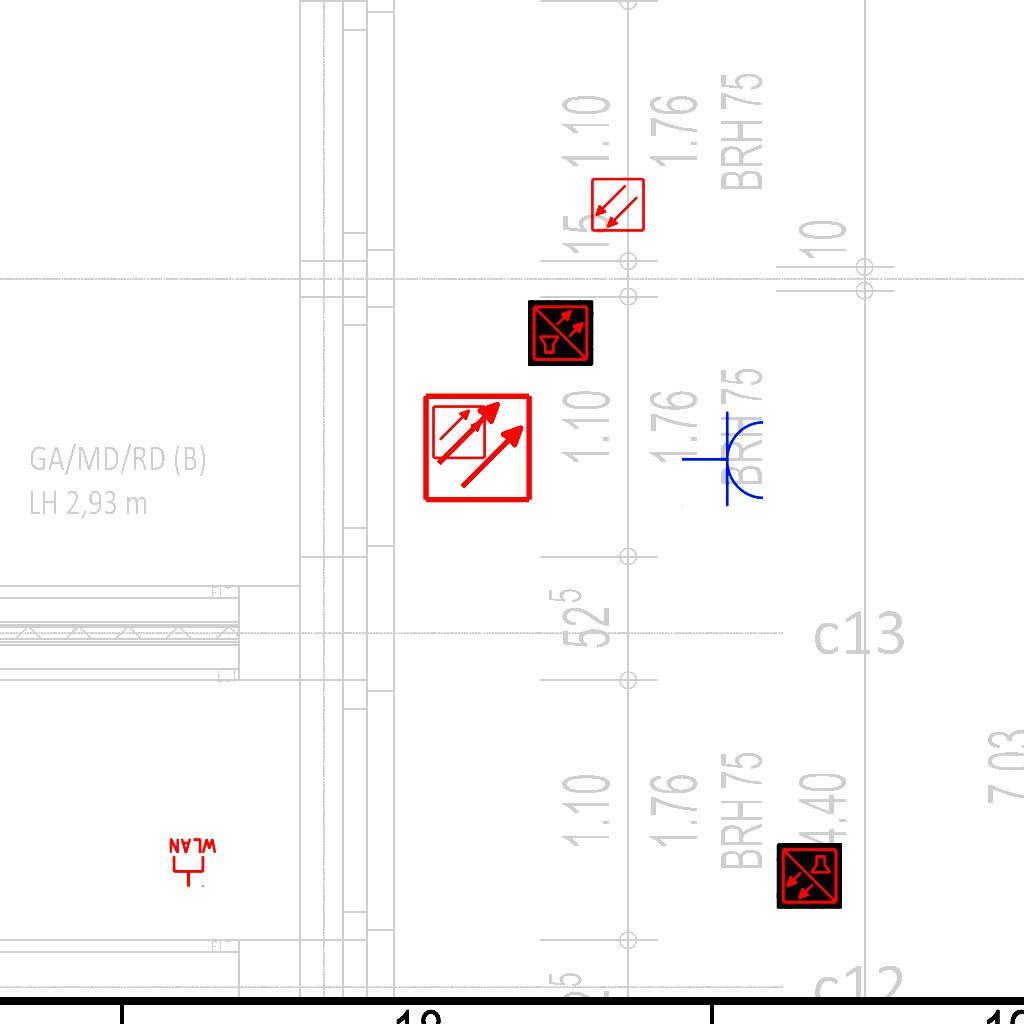OKW_Multisensormelder_(Kombination_optischer_Rauch-Kahlenmonoxid_Waerme-Melder): (776, 843, 842, 909), (528, 300, 594, 366)
RMO_Rauchmelder_optischer: (421, 391, 534, 504), (590, 177, 646, 233), (431, 404, 487, 460)
Schukosteckdose_einfach: (681, 410, 768, 510)
WLAN: (167, 837, 219, 889)
